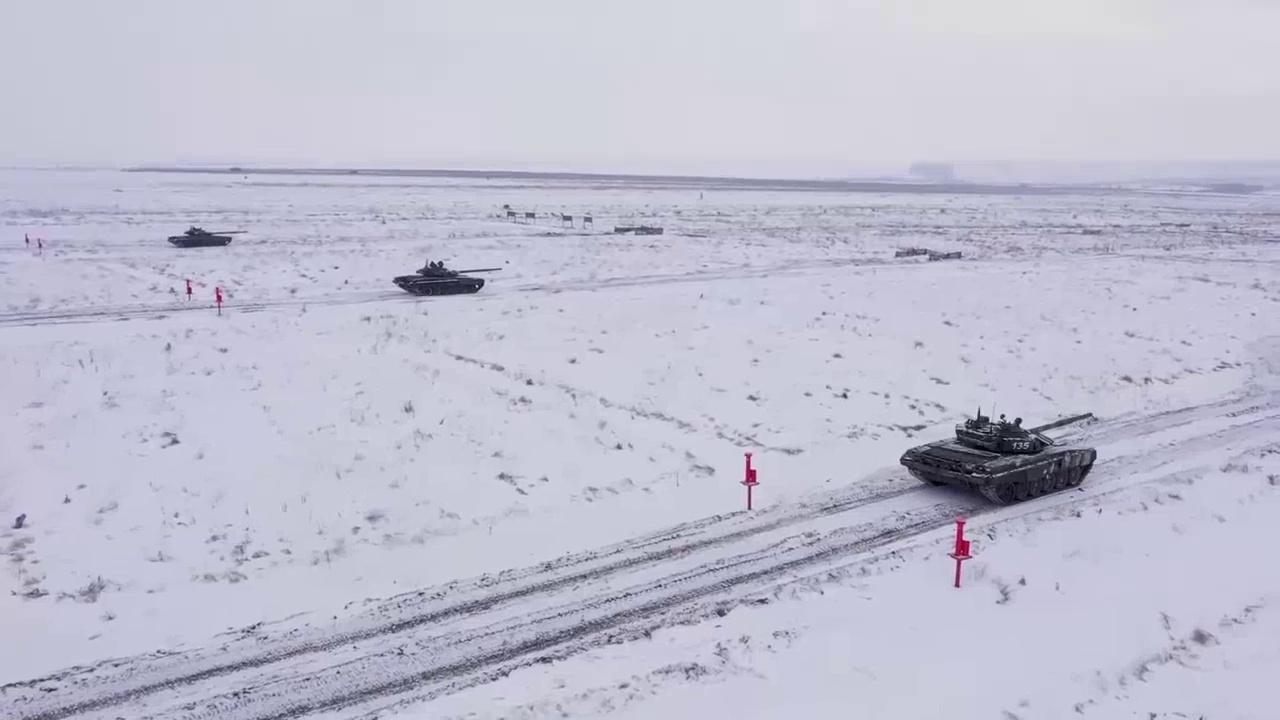tank: (898, 409, 1100, 509), (392, 259, 504, 296), (167, 225, 248, 248)
